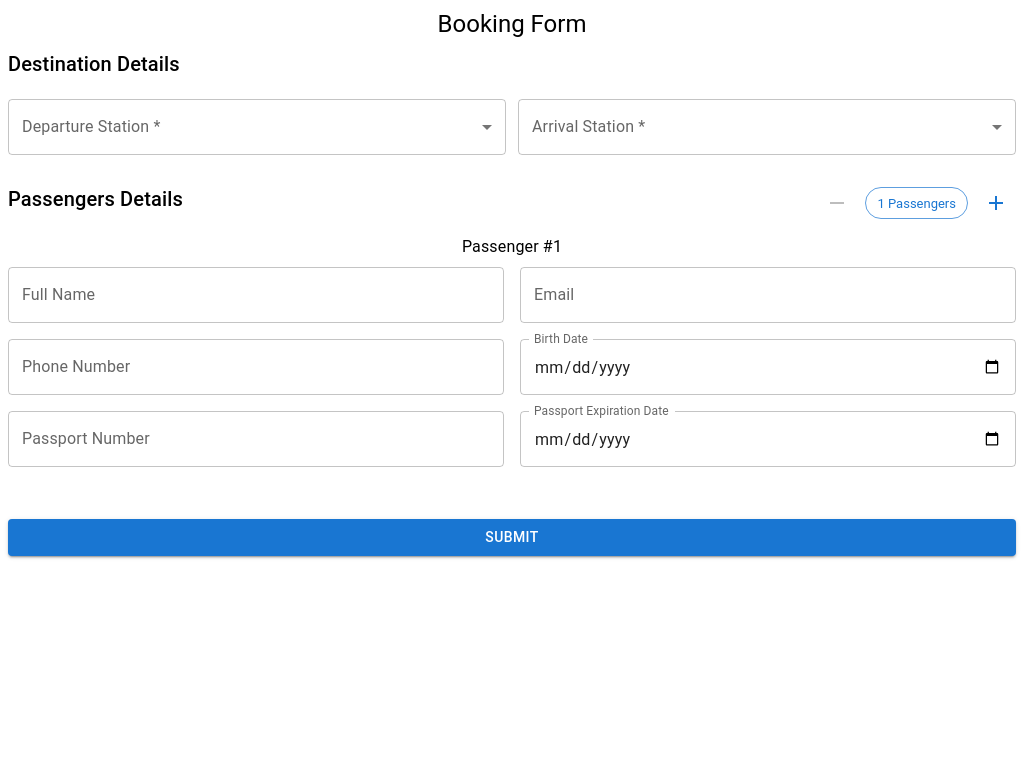
Scenario: BookingForm › can remove passengers when more than one
The image size is (1024, 768).
# Add a passenger first
Click the button with test id "AddIcon" at {"x": 996, "y": 203}, box [976,183,1016,223]
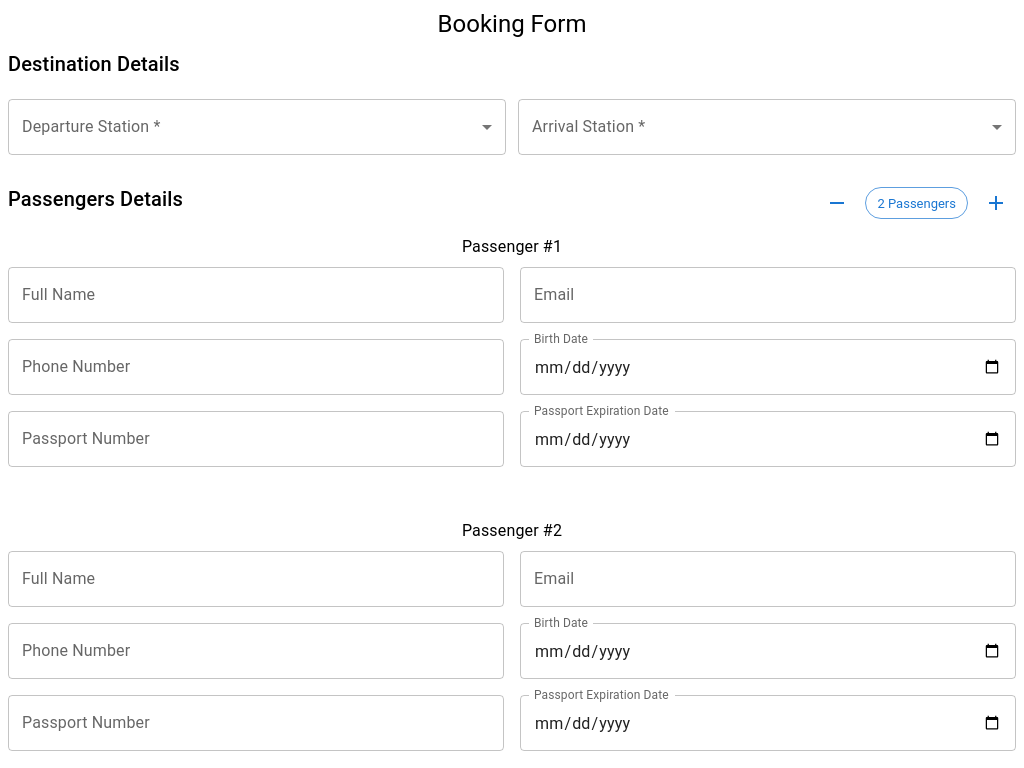
Result: the text "2 Passengers" is shown at [878,196,956,211]
# Remove a passenger
Click the button with test id "RemoveIcon" at {"x": 838, "y": 203}, box [818,183,858,223]
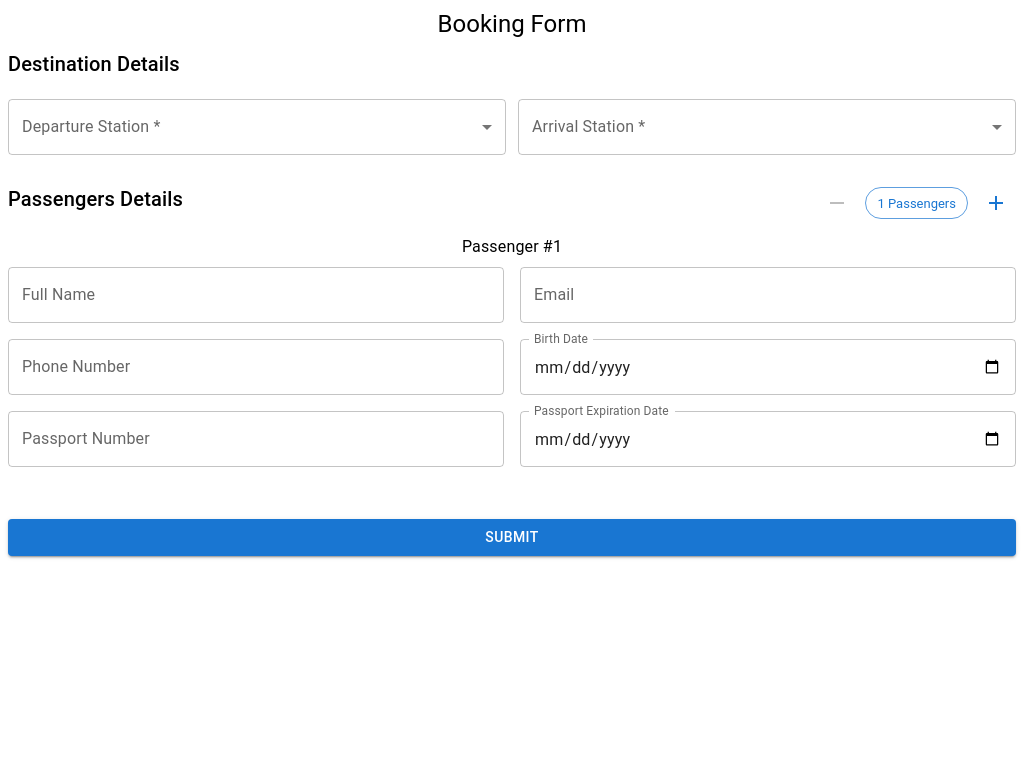
Result: the text "1 Passengers" is shown at [878,196,956,211]
